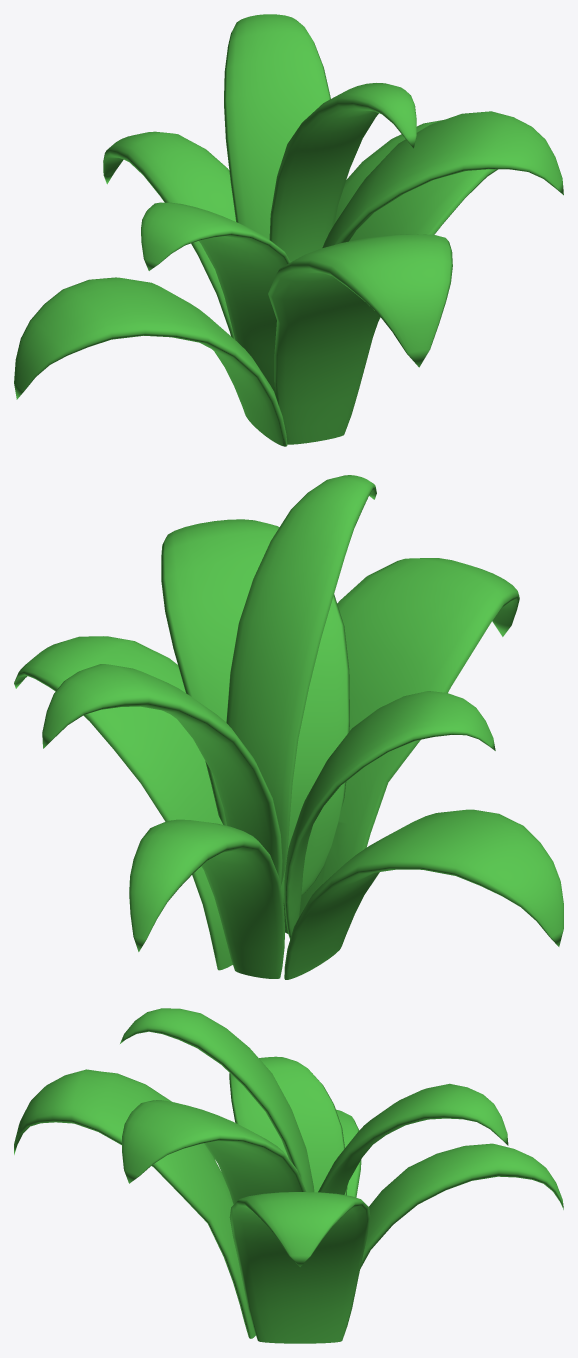
The model's file is prop_grass_2.fbx.
3 renders of one model, top to bottom at view 1: azimuth 30°, elevation 25°; view 2: azimuth 150°, elevation 25°; view 3: azimuth 270°, elevation 25°, orthographic. The views are drawn at different scales.
Parts seen in each view (by area): view 1: pSphere10; view 2: pSphere10; view 3: pSphere10.
Boxes of the visible parts, x1,y1,x2,y2 form: pSphere10: (14, 14, 563, 446); pSphere10: (14, 475, 563, 979); pSphere10: (14, 1008, 563, 1343).
Size of the model in its own units: 7 by 5 by 7.72.
